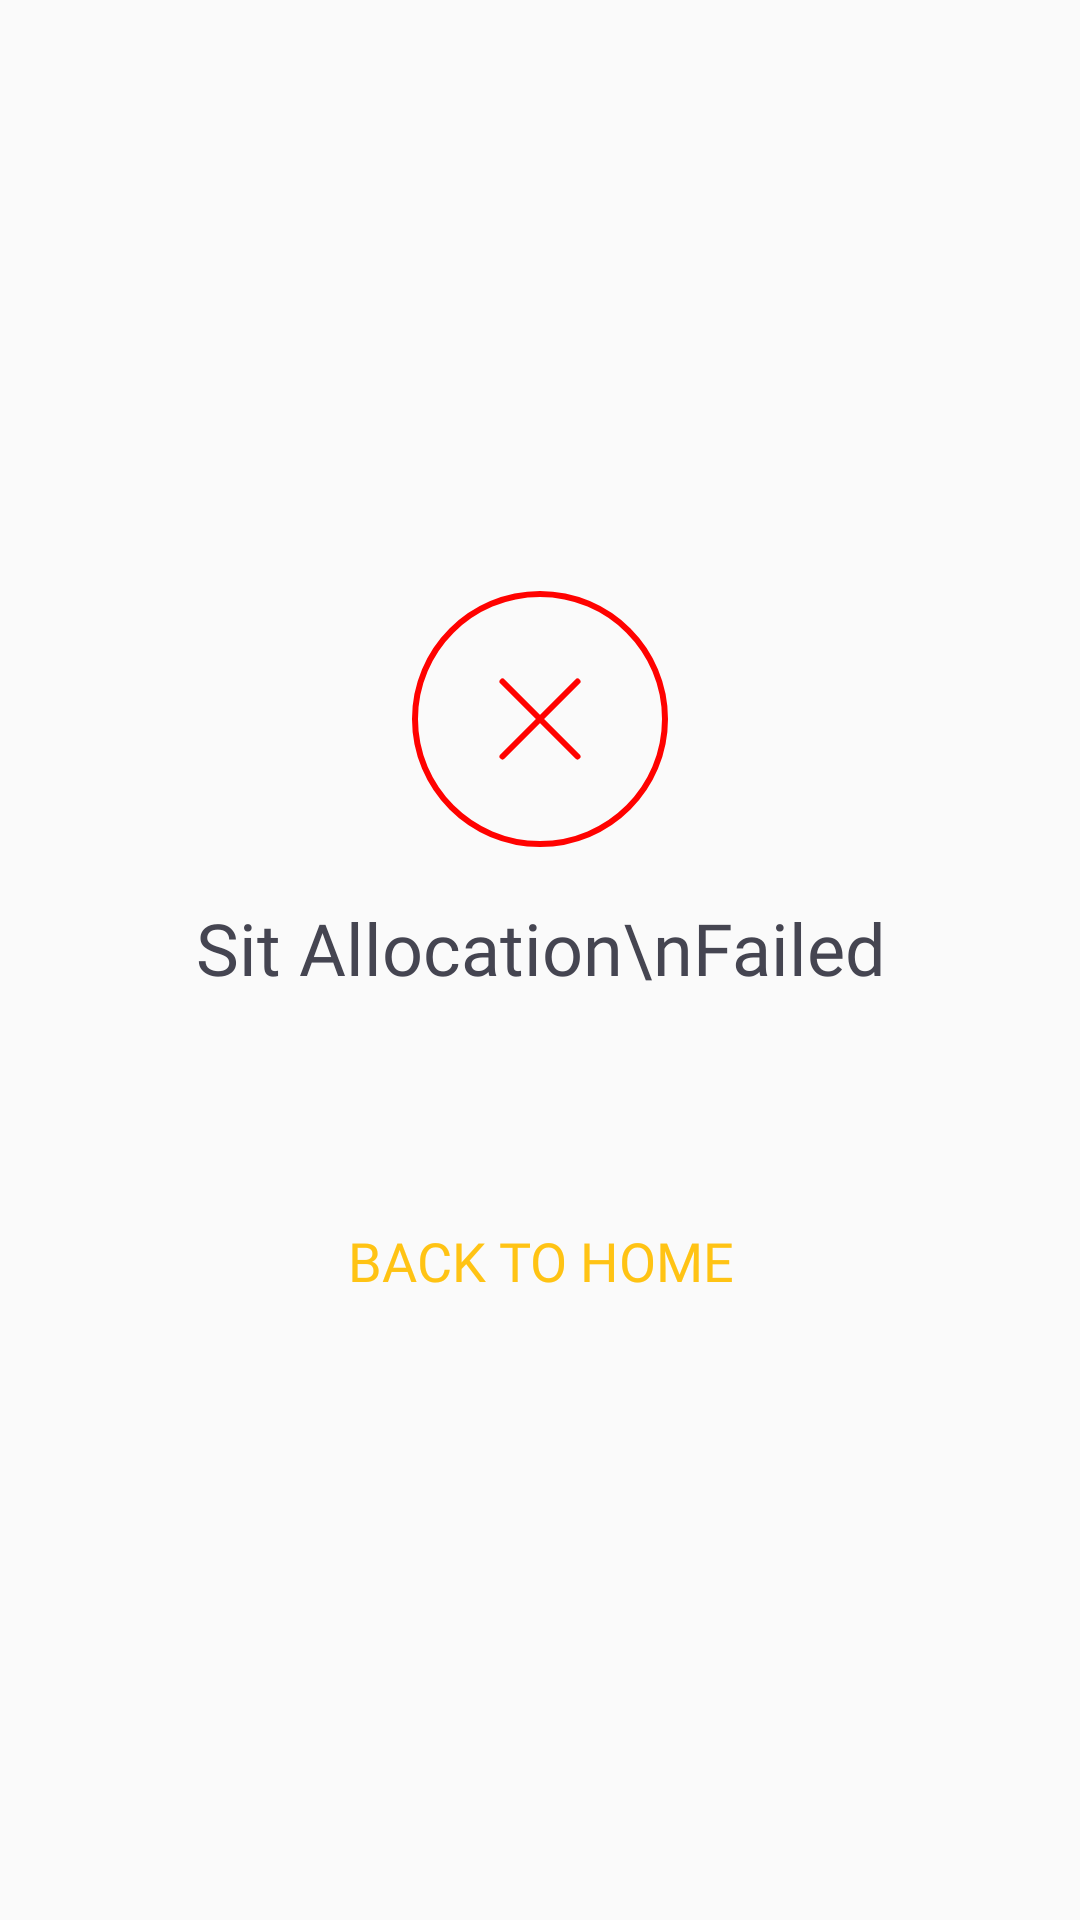

Where icons sit on this 1080px×1920px app screen, as (x1, y1, x2, y2):
circle: (412, 591, 668, 847)
